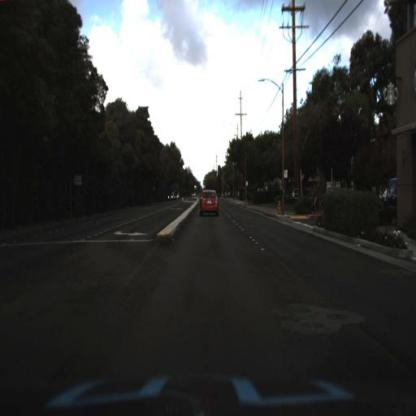car: (199, 189, 222, 217)
